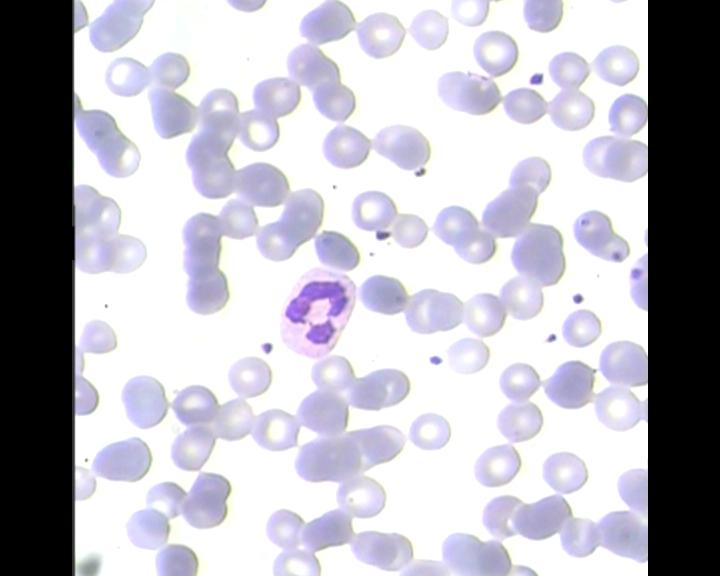neut: (274, 261, 354, 357)
